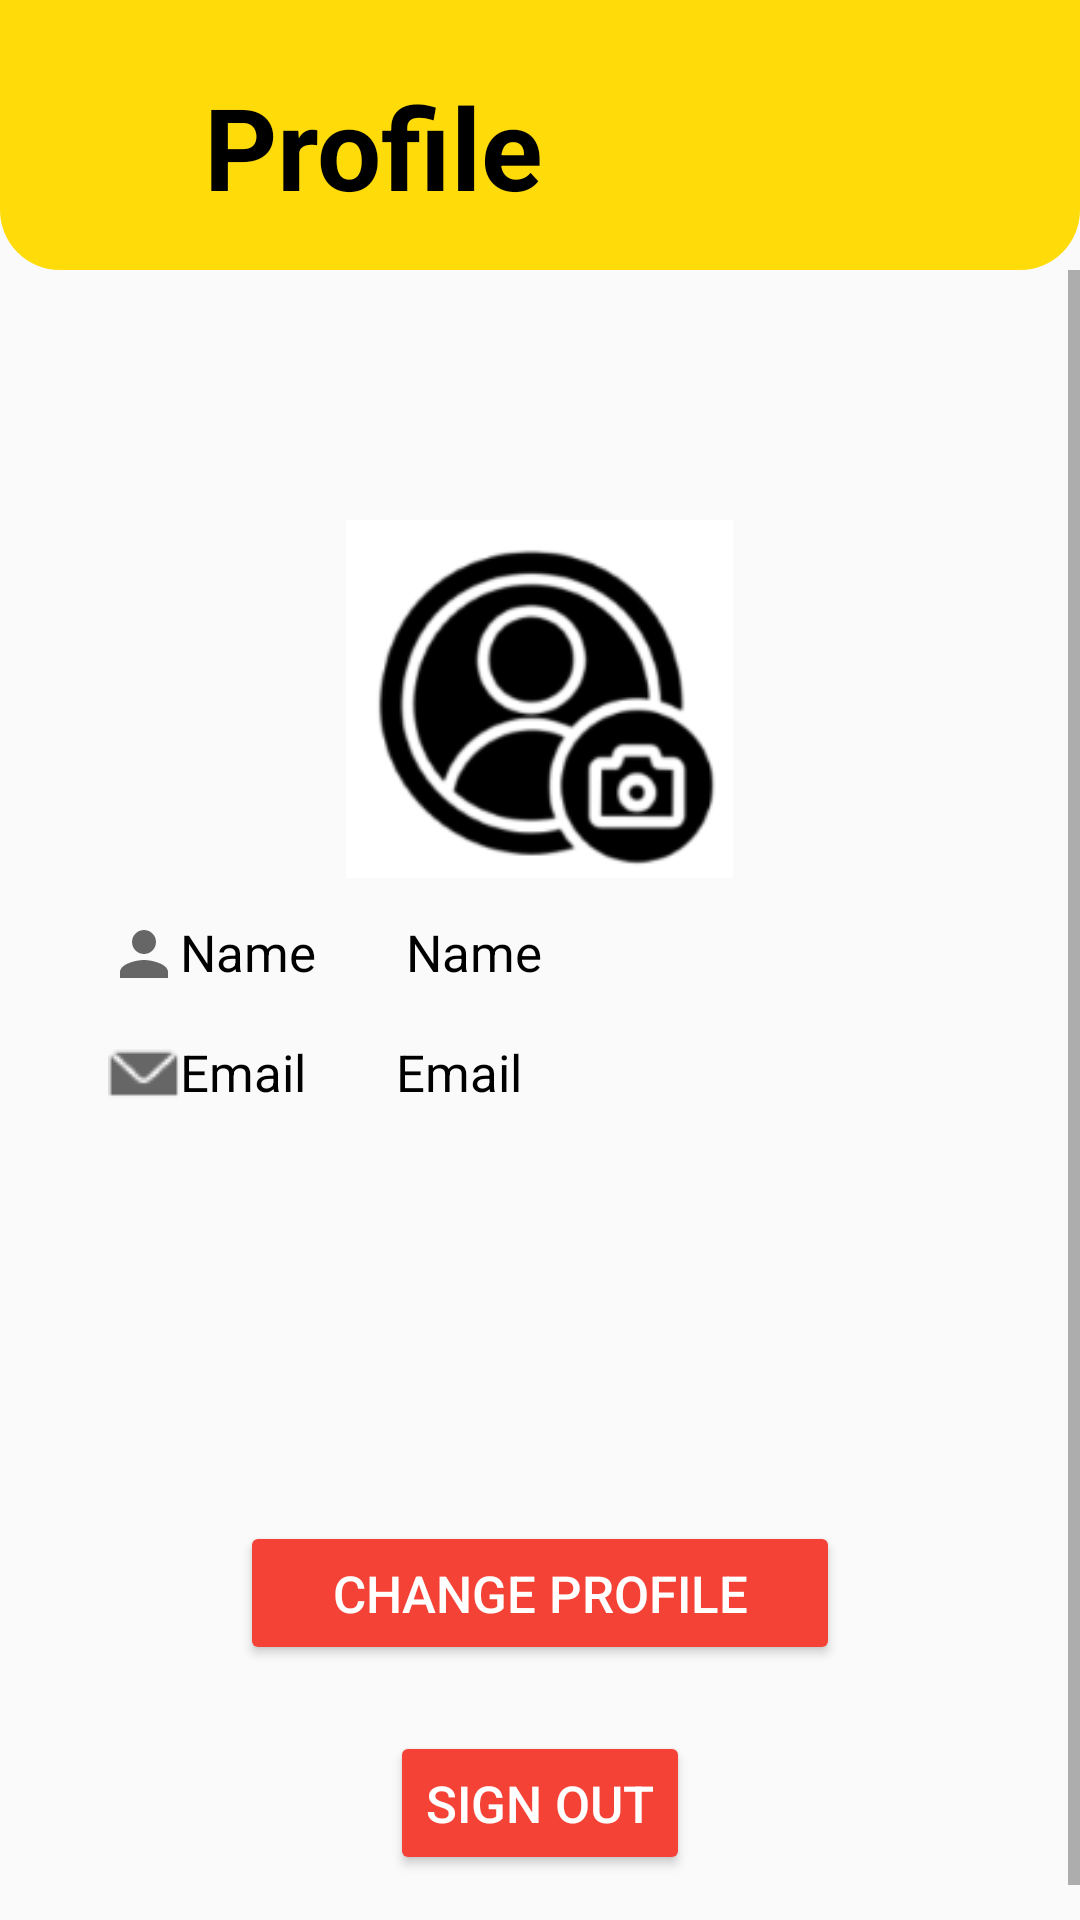

Named icons in this screenshot (1080*1920) and their bounding boxes, box=[x1, y1, x2, y2]:
camera: box=[378, 550, 715, 864]
